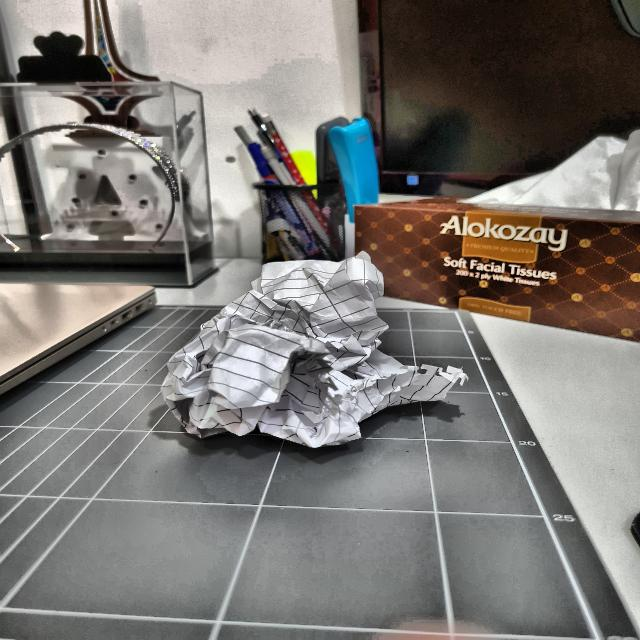Paper: (167, 253, 456, 454)
